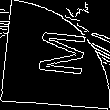M_W: (25, 29, 85, 81)
